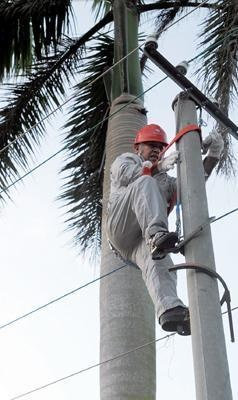red: (133, 123, 168, 165)
